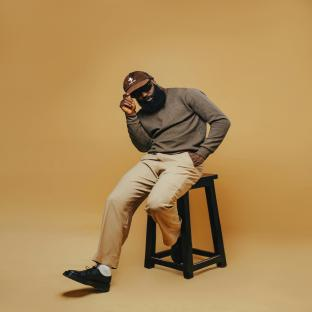Human: (63, 71, 230, 291)
